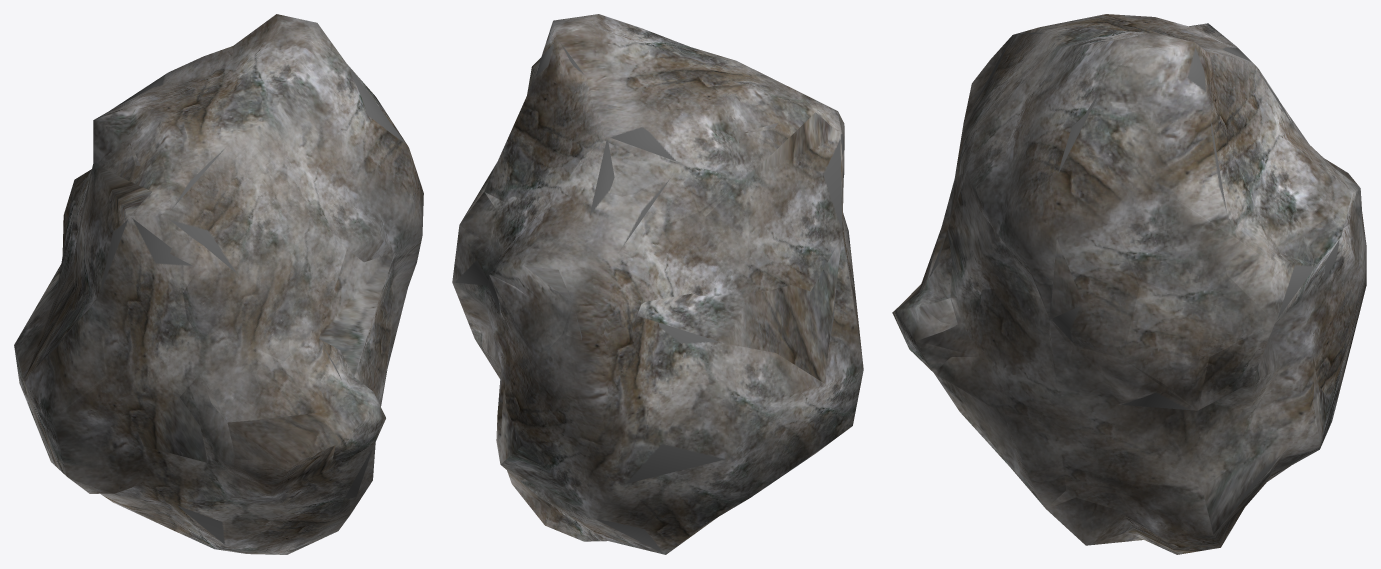
The model's file is OccStone_01.DAE.
3 renders of one model, left to right at view 1: azimuth 30°, elevation 25°; view 2: azimuth 150°, elevation 25°; view 3: azimuth 270°, elevation 25°, orthographic. The views are drawn at different scales.
Parts seen in each view (by area): view 1: OccStoneOne300, OccStoneOne100, OccStoneOne200; view 2: OccStoneOne300, OccStoneOne100, OccStoneOne200; view 3: OccStoneOne300, OccStoneOne200, OccStoneOne100.
Part boxes in pixels (bbox=[...]): OccStoneOne300: bbox=[14, 14, 423, 554]; OccStoneOne100: bbox=[15, 14, 408, 546]; OccStoneOne200: bbox=[24, 29, 422, 546]; OccStoneOne300: bbox=[452, 14, 862, 554]; OccStoneOne100: bbox=[452, 26, 863, 554]; OccStoneOne200: bbox=[484, 14, 863, 552]; OccStoneOne300: bbox=[892, 14, 1366, 554]; OccStoneOne200: bbox=[893, 27, 1364, 547]; OccStoneOne100: bbox=[901, 46, 1362, 534].
Size of what is drawn, in the model's own units: 1.82 by 2.04 by 2.49.
